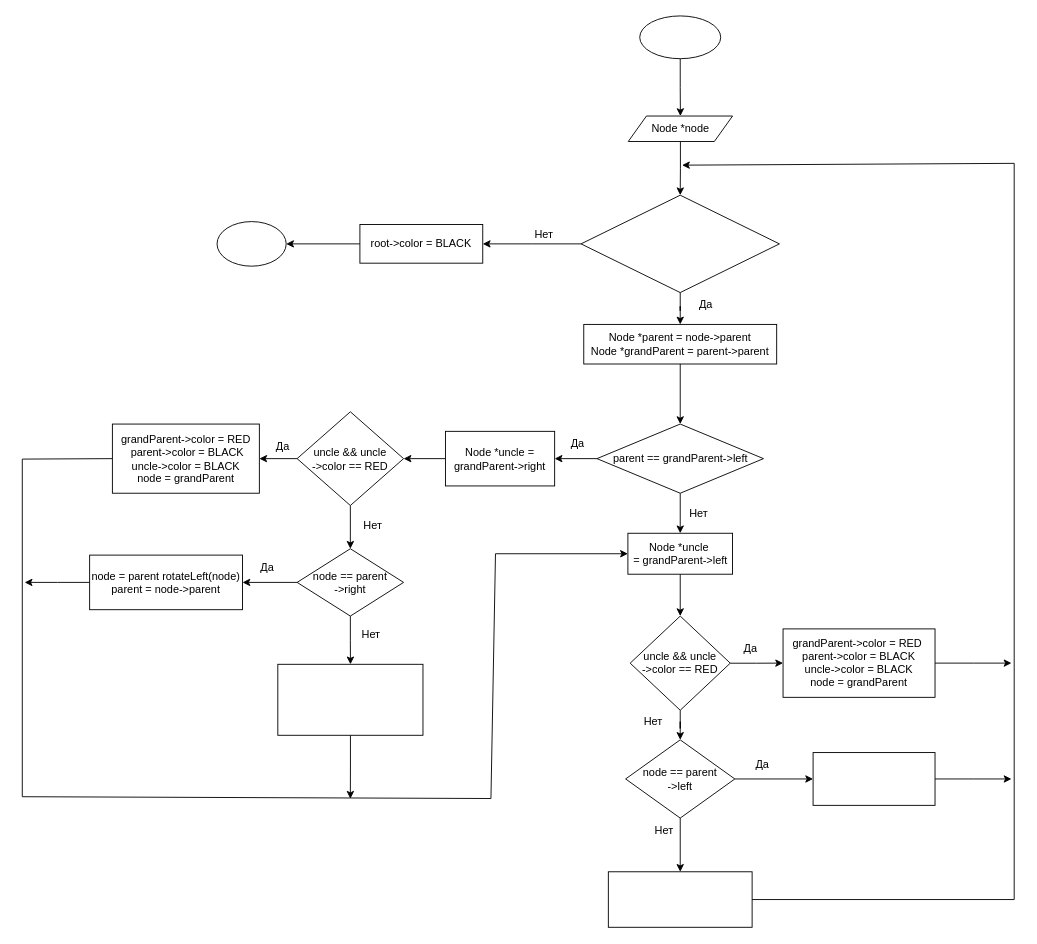
This 1037x944 diagram has some shape labels left out. The shapes that lost their labels are listed below. From the top down, each one's centre as x and y in pixels, then its label:
At [680,37]: "Начало".
At [251,243]: "Конец".
At [679,243]: "node != root && node->parent->color == RED".
At [350,699]: "parent->color = BLACK grandParent->color = RED rotateRight(grandParent)".
At [873,778]: "node = parent rotateRight(node) parent = node->parent".
At [679,899]: "parent->color = BLACK grandParent->color = RED rotateLeft(grandParent)".
